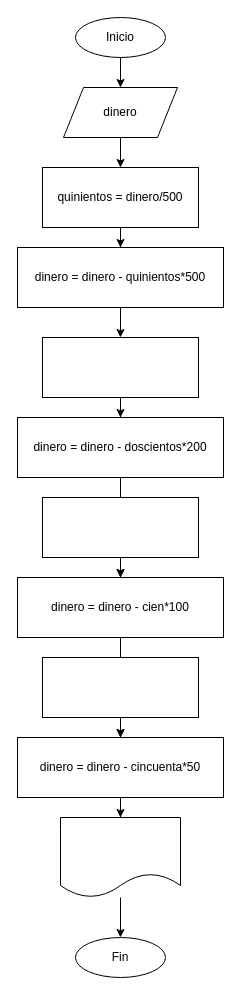
Image size: 241x995. Some labels were removed from this diagram. Here are the shapes that lost their labels. From the top down, the centre of each, then its label:
At point (120, 367): "doscientos= dinero/200".
At point (120, 527): "cien = dinero/100".
At point (120, 687): "cincuenta = dinero/50".
At point (120, 857): "quinientos, doscientos, cien, cincuenta".
